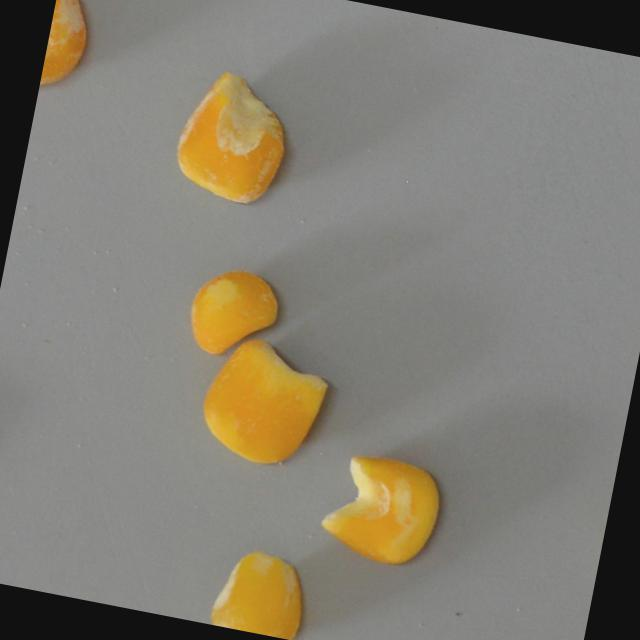no_canjicado: (193, 331, 335, 472), (313, 445, 449, 571)
pelicula: (167, 63, 299, 209), (206, 542, 315, 640), (182, 260, 285, 363), (38, 0, 94, 102)
